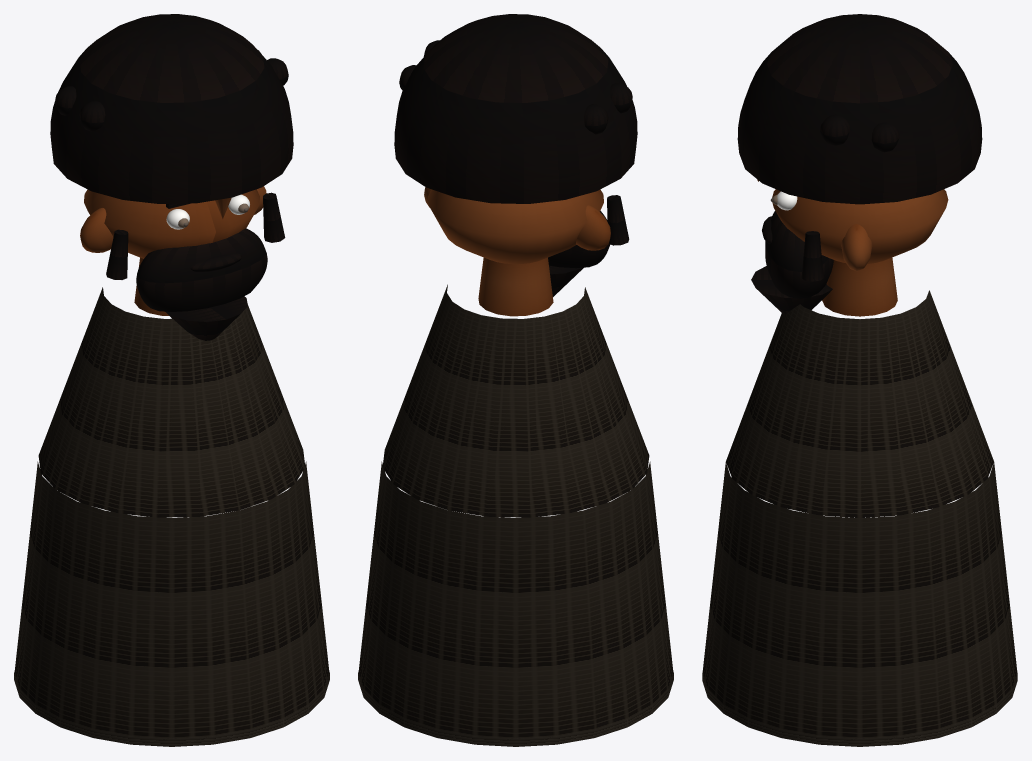
Rendered from simon_cyrene.glb.
3 views of the same model, side by side, from view 1: azimuth 30°, elevation 25°; view 2: azimuth 150°, elevation 25°; view 3: azimuth 270°, elevation 25° (orthographic).
Visible parts, largest first — view 1: Character_simon_of_cyrene, head; view 2: Character_simon_of_cyrene, head; view 3: Character_simon_of_cyrene, head.
Part boxes in pixels (box(x1,y1,x2,y2)): Character_simon_of_cyrene: box(14, 14, 329, 746); head: box(84, 189, 259, 258); Character_simon_of_cyrene: box(358, 14, 673, 746); head: box(428, 189, 603, 264); Character_simon_of_cyrene: box(702, 14, 1017, 746); head: box(772, 189, 948, 263).
Bounding box in the file's own units: 0.786 × 1.8 × 0.786.
8 materials, 4 textured.
